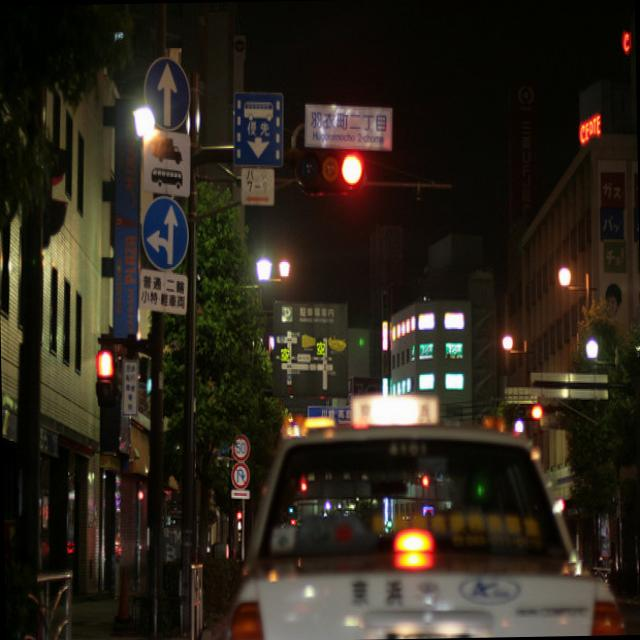Vehicle: (220, 420, 623, 640)
